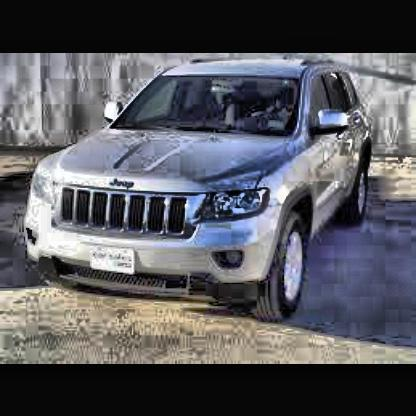Jeep Grand Cherokee SUV 2012: (25, 60, 376, 329)
